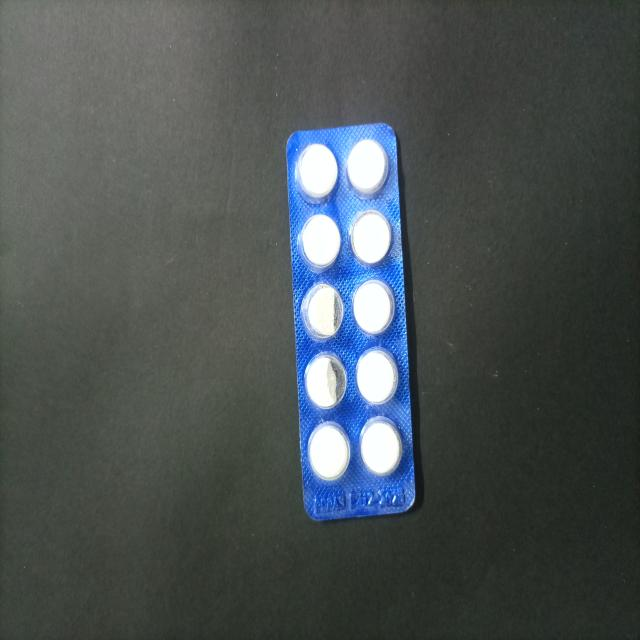defect: (301, 348, 349, 412), (298, 281, 346, 345)
